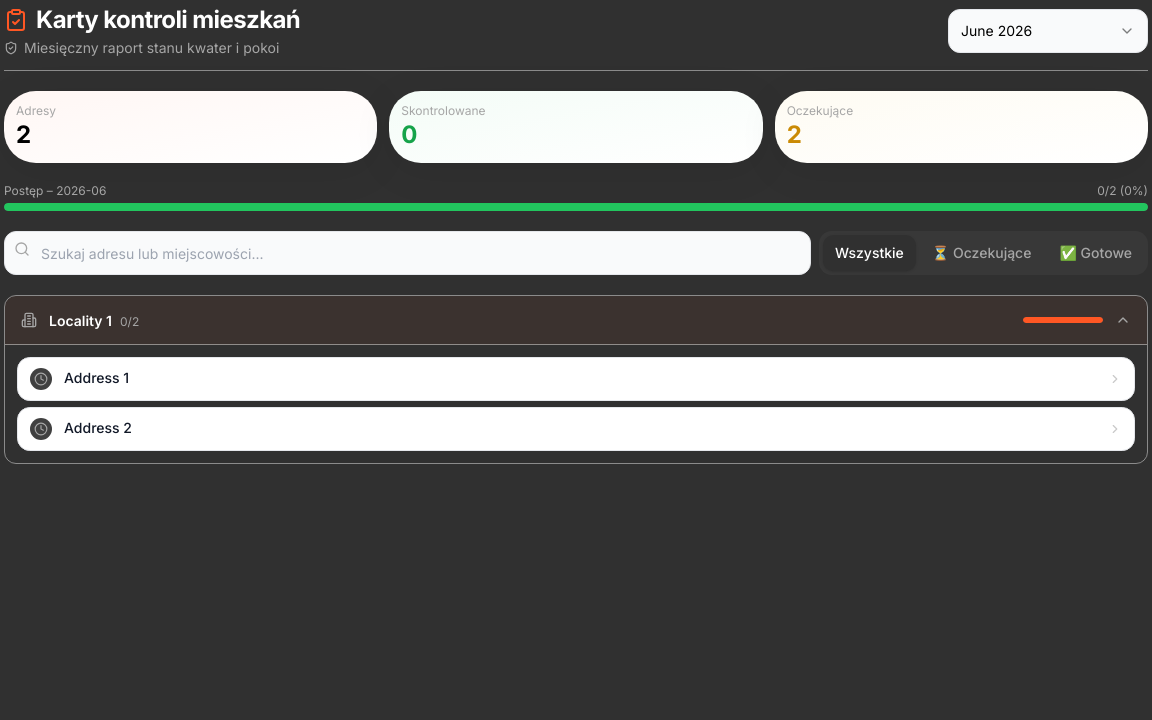
Test: ControlCardDialog - Meter Photo Upload › renders meter photo section with upload buttons when dialog is open
The image size is (1152, 720).
Click the button "Address 1". click: click(97, 378)
box: [17,357,1135,401]
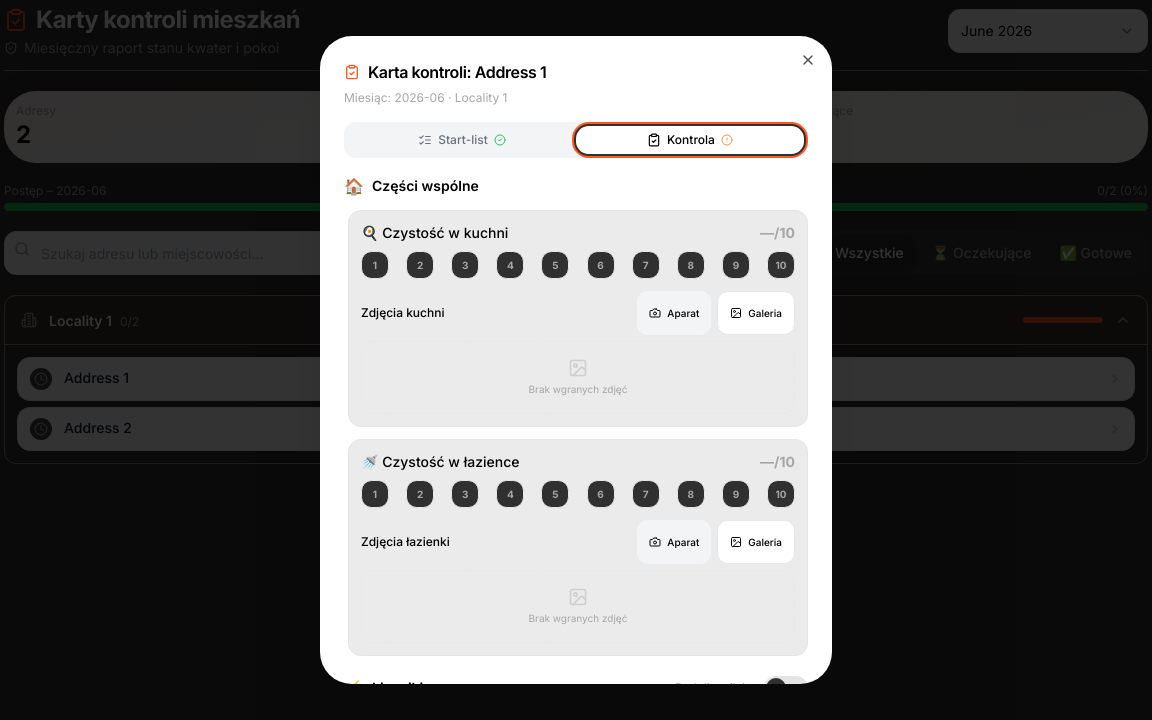
Expected: the text "Galeria" in the row of "Zdjęcia kuchni" is shown, [748,307,782,319]
Expected: the text "Aparat" in the row of "Zdjęcia kuchni" is shown, [667,307,699,319]
